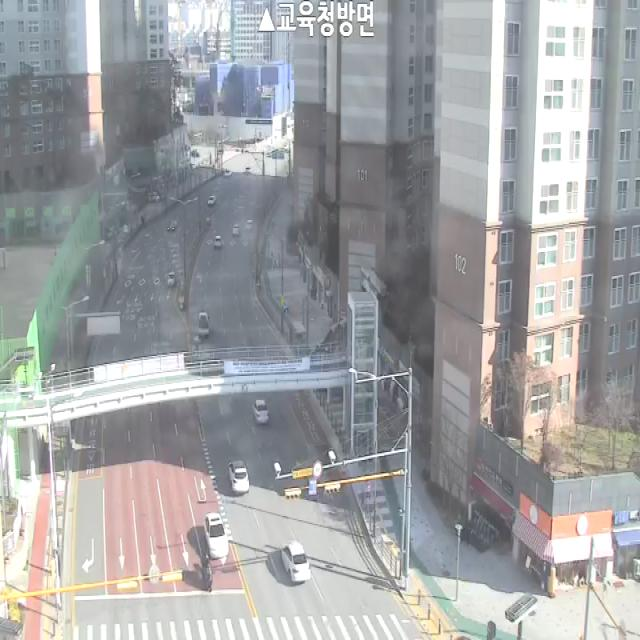Car: (280, 540, 310, 581), (204, 513, 228, 558), (228, 459, 249, 494), (252, 400, 269, 423), (198, 311, 209, 335), (168, 272, 176, 286), (214, 235, 222, 248), (208, 195, 216, 206), (233, 225, 240, 235)
